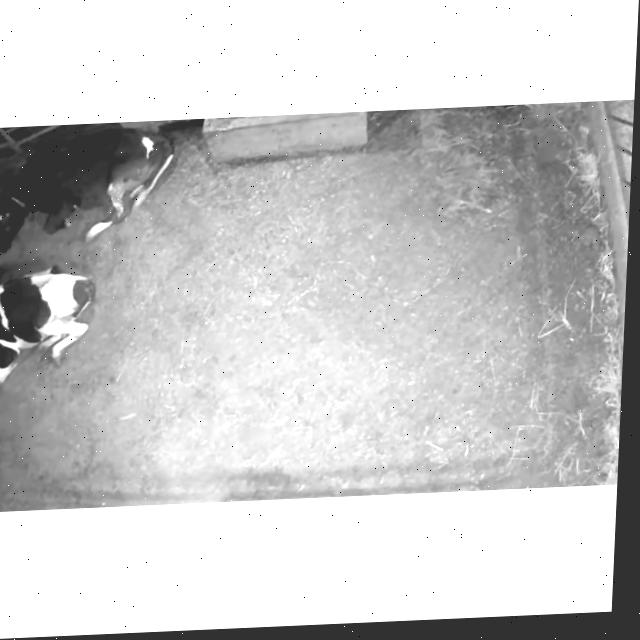lay: (0, 118, 182, 268), (0, 250, 113, 432)
